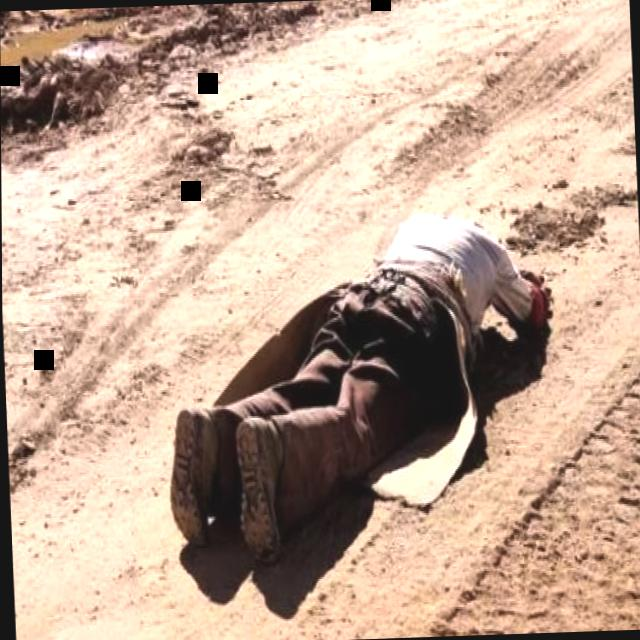Fall-Detected: (149, 192, 569, 574)
